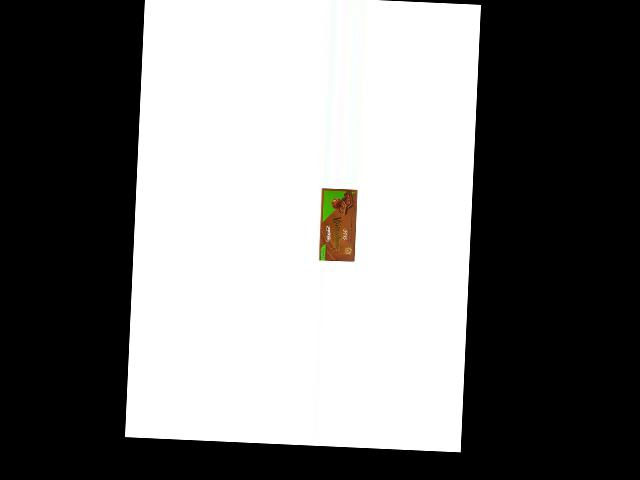chocolate: (315, 187, 359, 264)
